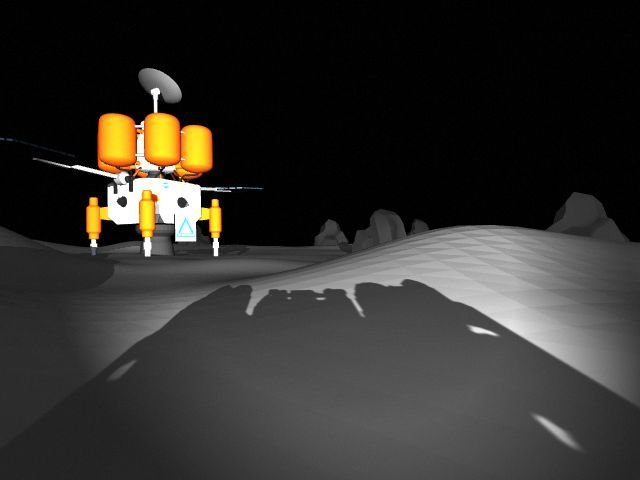homebase: (1, 66, 265, 261)
